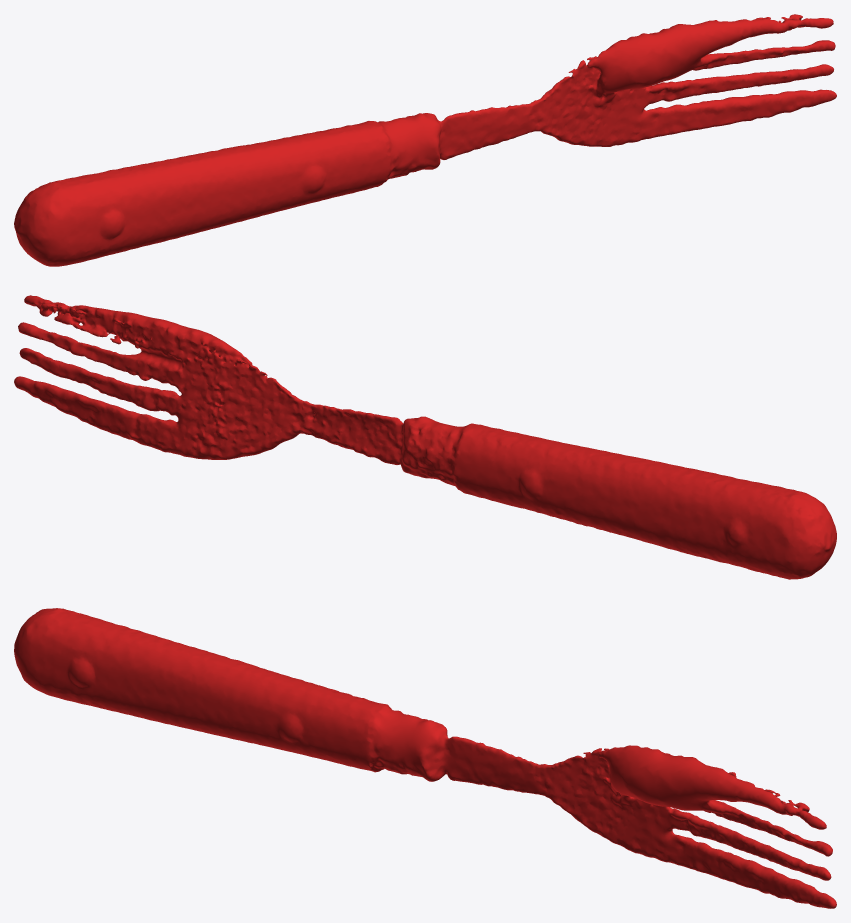
The model's file is fork_visual_oriented.obj.
The picture shows the model from 3 angles, top to bottom: view 1: azimuth 30°, elevation 25°; view 2: azimuth 150°, elevation 25°; view 3: azimuth 330°, elevation 25°; orthographic projection. The views are drawn at different scales.
Size of the model in its own units: 0.1976 by 0.0271 by 0.0159.
